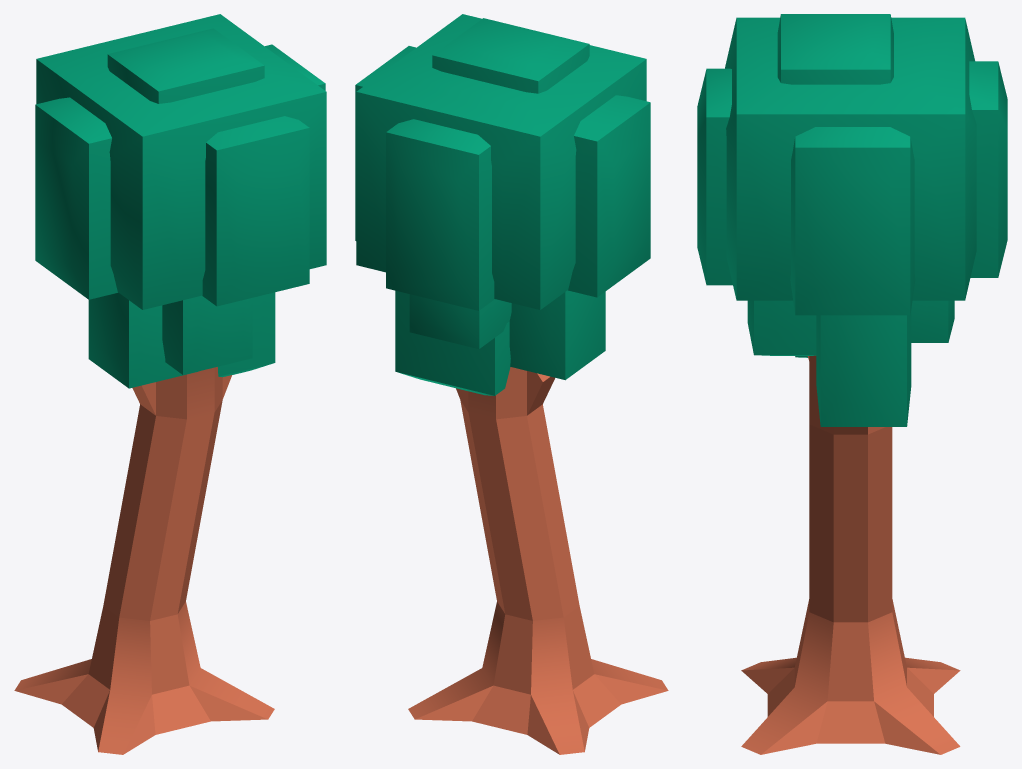
The picture shows the model from 3 angles, left to right: view 1: azimuth 30°, elevation 25°; view 2: azimuth 150°, elevation 25°; view 3: azimuth 270°, elevation 25°; orthographic projection. The views are drawn at different scales.
Parts seen in each view (by area): view 1: mergedBlocks; view 2: mergedBlocks; view 3: mergedBlocks.
Part boxes in pixels (<box>): mergedBlocks: <box>14,14,326,754</box>; mergedBlocks: <box>355,14,668,754</box>; mergedBlocks: <box>697,14,1007,754</box>.
Size of the model in its own units: 13.77 by 33.36 by 13.57.
